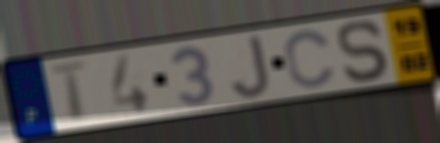3: (169, 43, 218, 108)
4: (111, 52, 152, 116)
C: (282, 28, 338, 91)
J: (229, 32, 273, 100)
S: (335, 17, 394, 85)
T: (47, 59, 93, 123)
